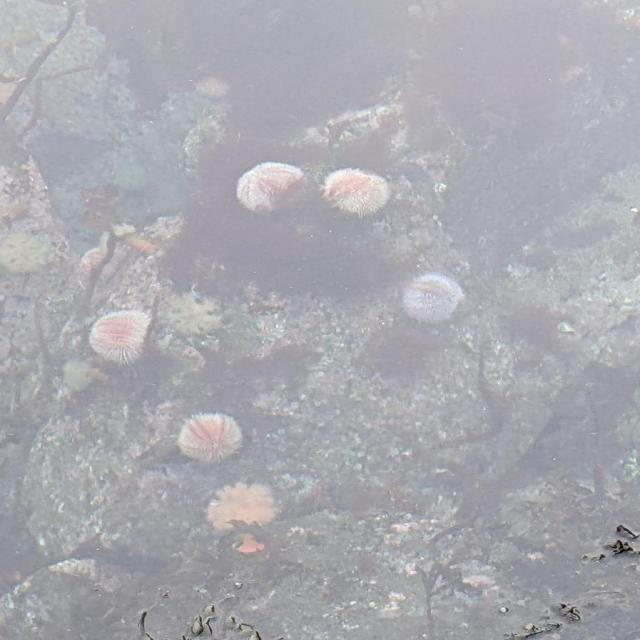Deniz Kestanesi: (236, 161, 309, 215), (88, 310, 154, 366), (175, 412, 245, 463), (321, 168, 392, 218), (400, 272, 465, 323)
